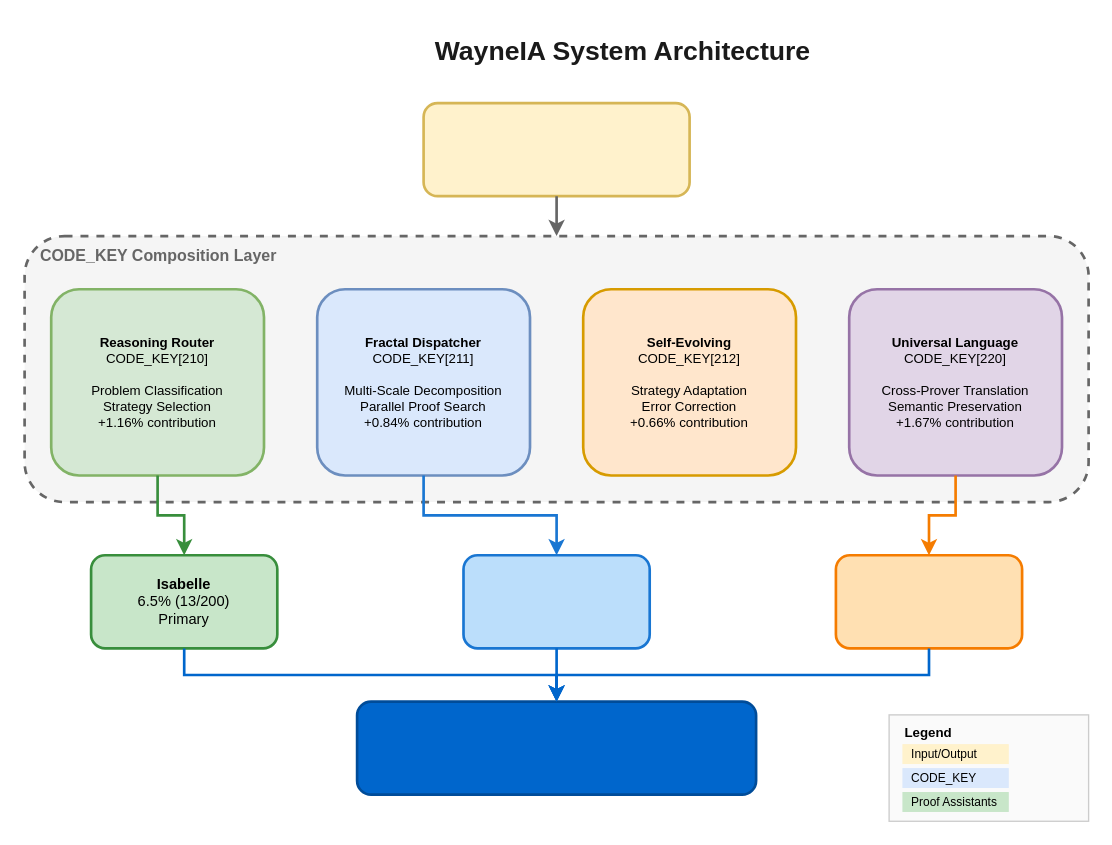
The diagram is 1112 pixels wide and 845 high, and some of its shapes have lost their labels. Here are the shapes that lost their labels. From the top down, the centre of each, then its label:
At (x=556, y=149): "Problem Input Putnam Competition Problems (600 problems, 1985-2023)".
At (x=556, y=601): "Lean 4 4.5% (9/200) Secondary".
At (x=928, y=601): "Coq 4.0% (8/200) Tertiary".
At (x=556, y=747): "Verified Proof Output 30/600 Problems Solved (5.0%) +3025% vs GPT-4o Baseline".
